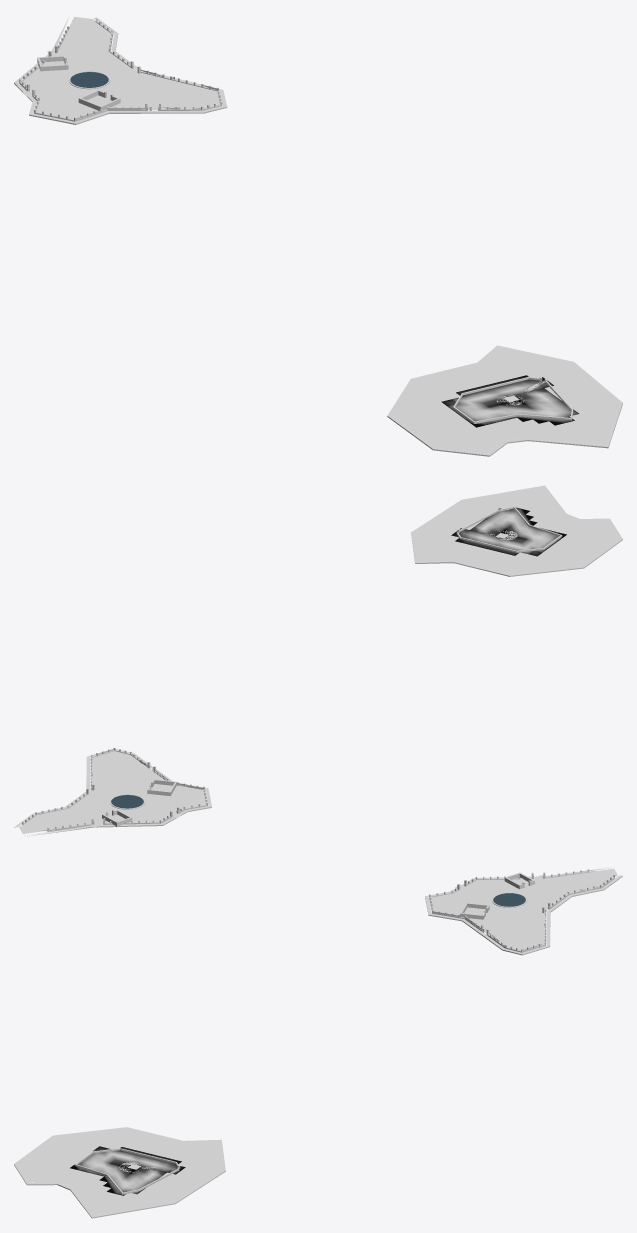
The picture shows the model from 3 angles, top to bottom: view 1: azimuth 30°, elevation 25°; view 2: azimuth 150°, elevation 25°; view 3: azimuth 330°, elevation 25°; orthographic projection. The views are drawn at different scales.
Visible parts, largest first — view 1: spb-ground.gravel@-18,8, spb-ground.lawn@-18,8, spb-ground.bed@-18,8, spb-ground.walk@-18,8, spb-ground.sand@-18,8, spb-ground.hedge@-18,8, spb-ground.coping@-18,8; view 2: spb-ground.gravel@-18,8, spb-ground.lawn@-18,8, spb-ground.bed@-18,8, spb-ground.walk@-18,8, spb-ground.sand@-18,8, spb-ground.hedge@-18,8, spb-ground.coping@-18,8; view 3: spb-ground.gravel@-18,8, spb-ground.lawn@-18,8, spb-ground.bed@-18,8, spb-ground.walk@-18,8, spb-ground.sand@-18,8, spb-ground.hedge@-18,8, spb-ground.coping@-18,8.
Part boxes in pixels (box(x1,y1,x2,y2)): spb-ground.gravel@-18,8: box(392, 347, 618, 453); spb-ground.lawn@-18,8: box(21, 16, 570, 416); spb-ground.bed@-18,8: box(441, 375, 578, 427); spb-ground.walk@-18,8: box(14, 16, 622, 456); spb-ground.sand@-18,8: box(22, 30, 158, 107); spb-ground.hedge@-18,8: box(37, 31, 573, 423); spb-ground.coping@-18,8: box(19, 18, 222, 121); spb-ground.gravel@-18,8: box(414, 487, 618, 574); spb-ground.lawn@-18,8: box(19, 509, 508, 833); spb-ground.bed@-18,8: box(451, 507, 566, 556); spb-ground.walk@-18,8: box(14, 485, 622, 836); spb-ground.sand@-18,8: box(44, 771, 181, 830); spb-ground.hedge@-18,8: box(37, 506, 562, 826); spb-ground.coping@-18,8: box(21, 747, 207, 831); spb-ground.gravel@-18,8: box(18, 1128, 222, 1215); spb-ground.lawn@-18,8: box(160, 868, 617, 1177); spb-ground.bed@-18,8: box(70, 1146, 185, 1195); spb-ground.walk@-18,8: box(14, 867, 622, 1218); spb-ground.sand@-18,8: box(455, 871, 593, 931); spb-ground.hedge@-18,8: box(74, 872, 600, 1194); spb-ground.coping@-18,8: box(429, 869, 615, 952).
Size of the model in its own units: 82.97 by 2.93 by 394.
